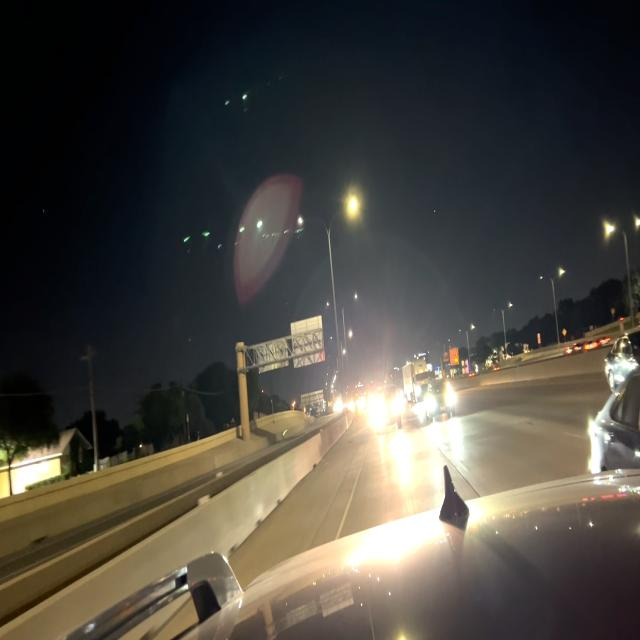back-of-sign: (291, 314, 326, 370), (257, 337, 289, 375), (300, 389, 325, 411)
